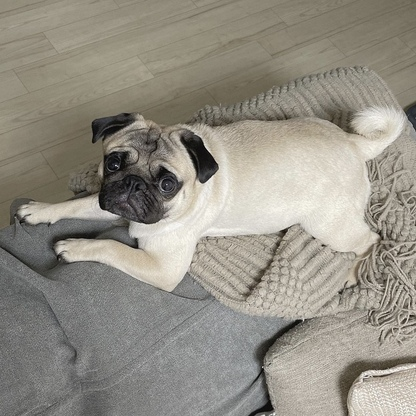Pug: (13, 97, 411, 296)
